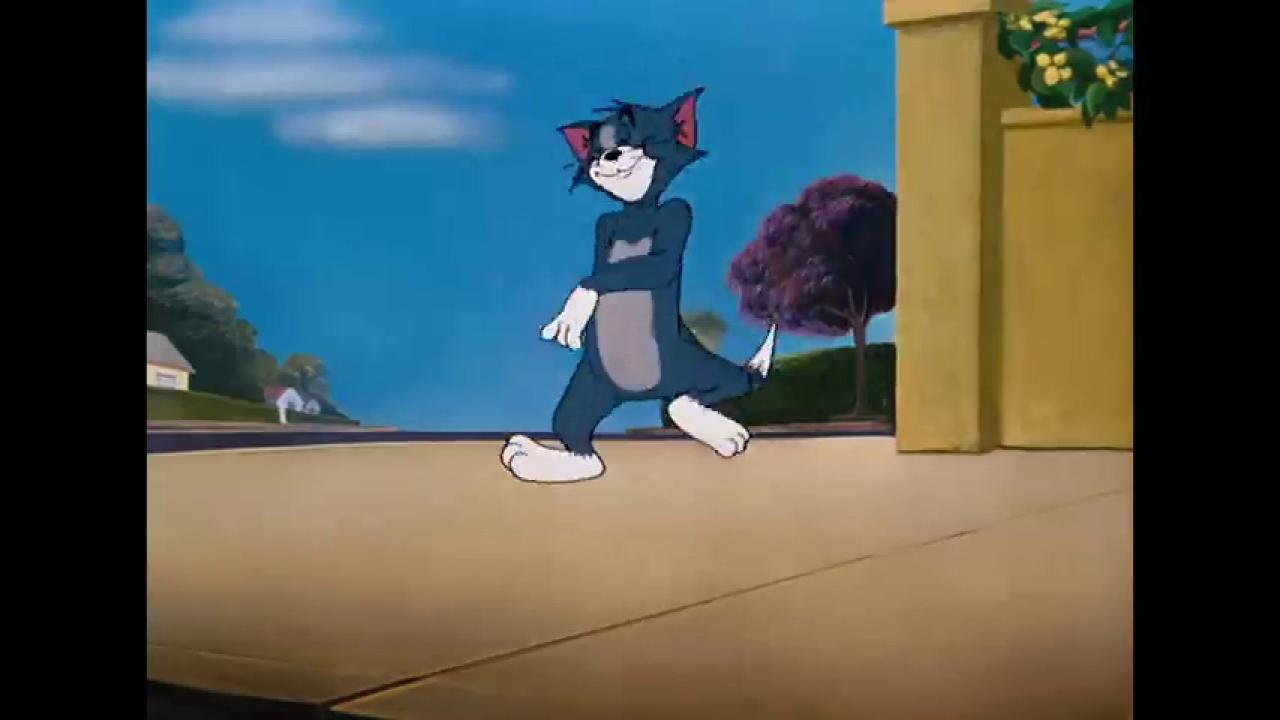Tom: (498, 84, 778, 486)
